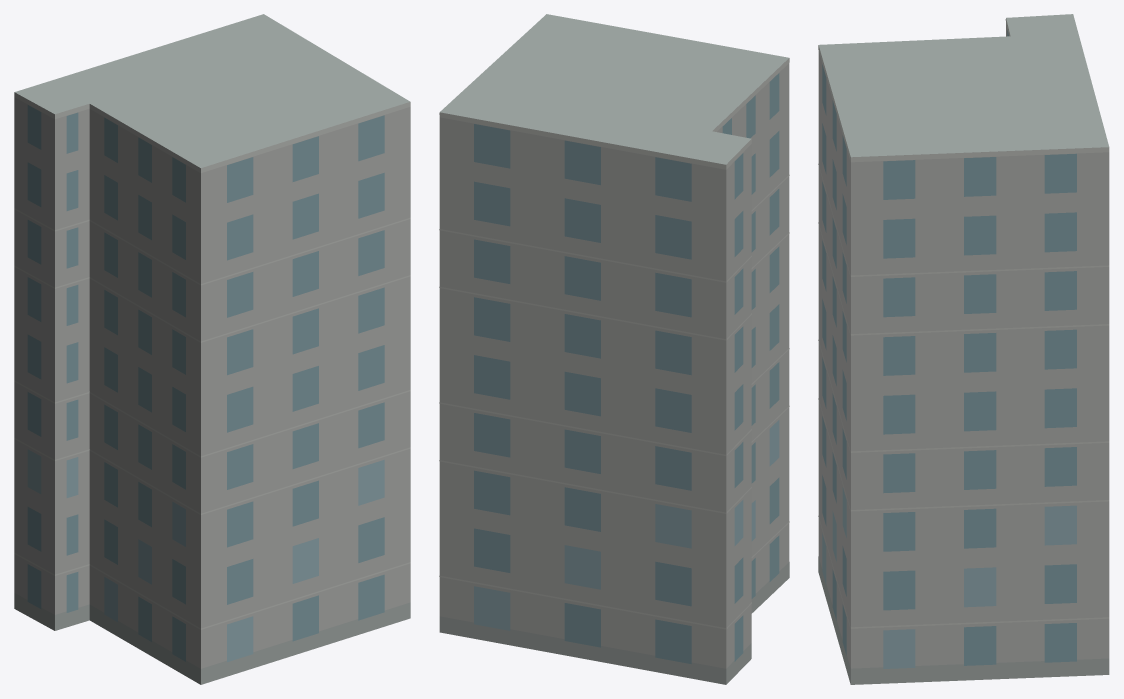
File: survey-upis-32797688.glb
The picture shows the model from 3 angles, left to right: view 1: azimuth 30°, elevation 25°; view 2: azimuth 150°, elevation 25°; view 3: azimuth 270°, elevation 25°; orthographic projection. The views are drawn at different scales.
Visible parts, largest first — view 1: survey-upis-32797688.tmp; view 2: survey-upis-32797688.tmp; view 3: survey-upis-32797688.tmp.
Part boxes in pixels (x1=…): survey-upis-32797688.tmp: x1=14, y1=14, x2=410, y2=684; survey-upis-32797688.tmp: x1=439, y1=14, x2=789, y2=684; survey-upis-32797688.tmp: x1=818, y1=14, x2=1109, y2=684.
Size of the model in its own units: 14.66 by 25.15 by 12.59.
